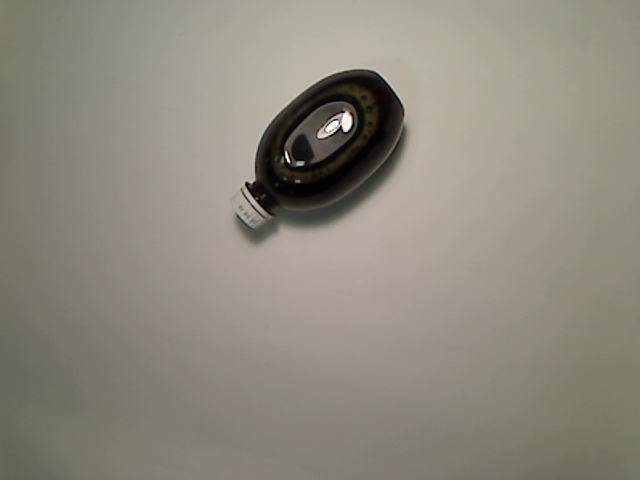plast_bottle: (229, 63, 408, 232)
